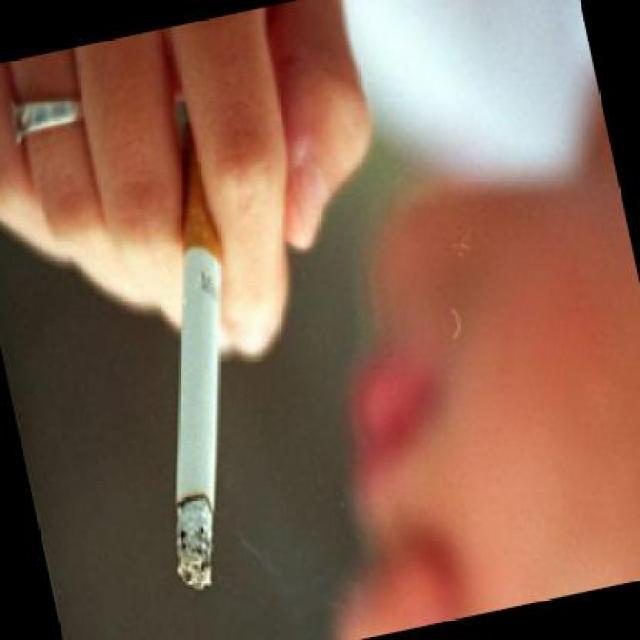cigarette: (79, 109, 292, 596)
